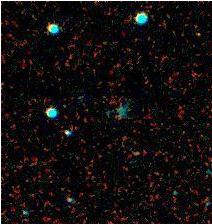star: (183, 19, 212, 49)
